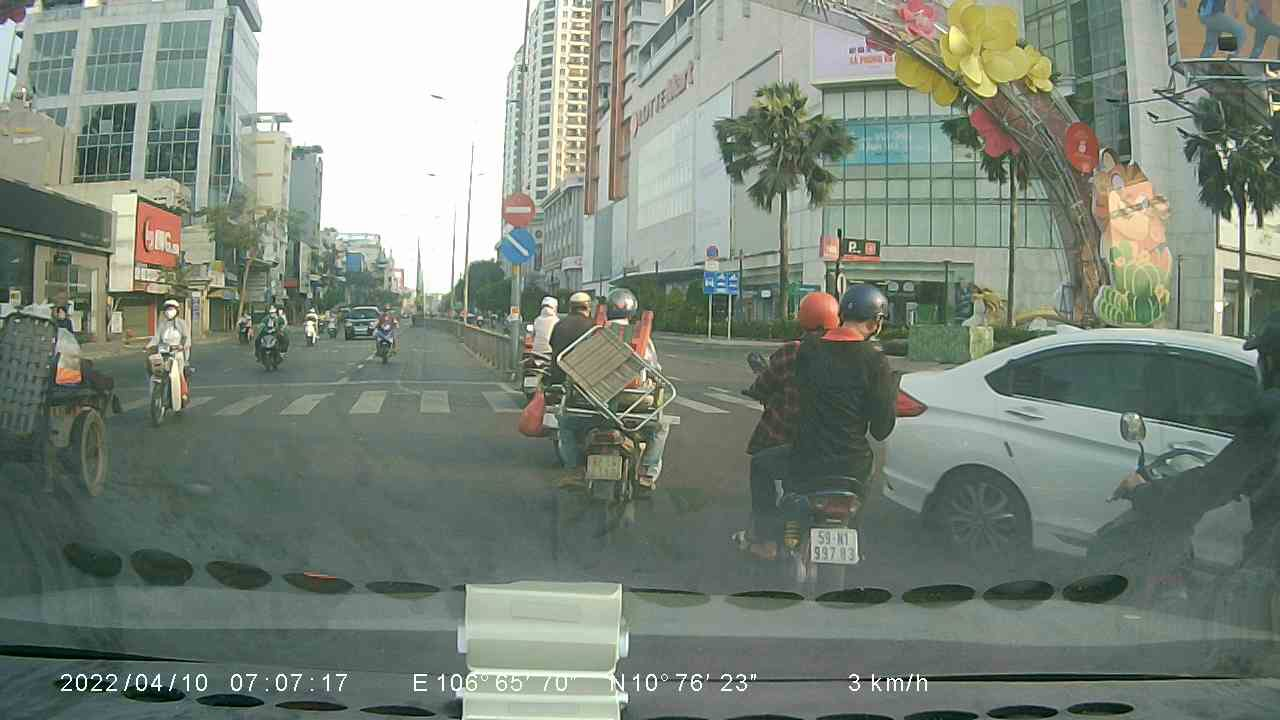Cam di nguoc chieu: (498, 191, 538, 227)
Huong di phai re phai: (496, 230, 538, 267)
